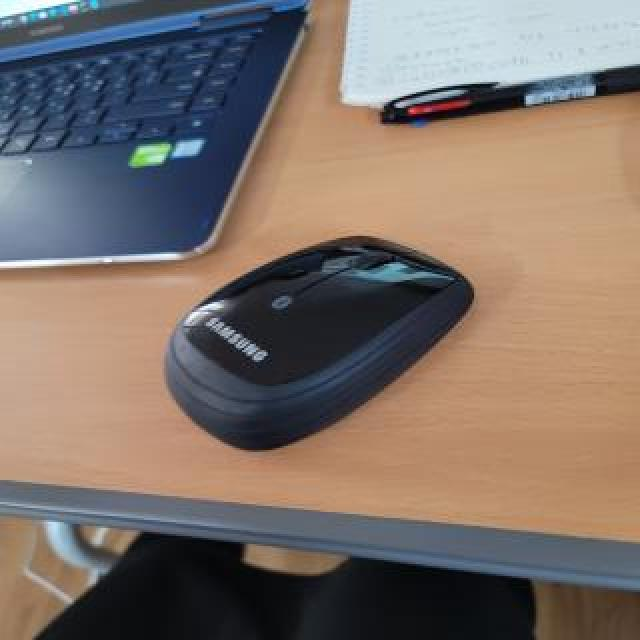laptop_computer: (26, 0, 312, 282)
mouse: (184, 232, 478, 442)
